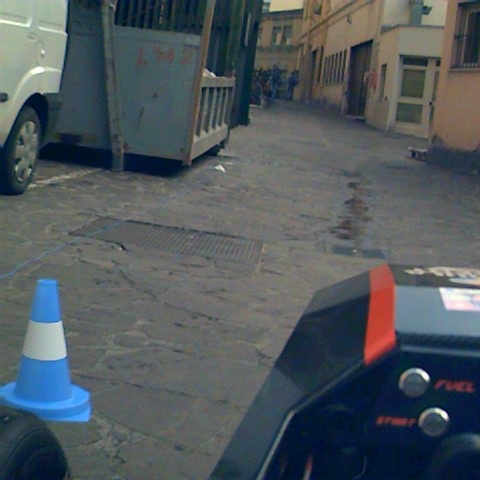cone: (4, 278, 85, 420)
